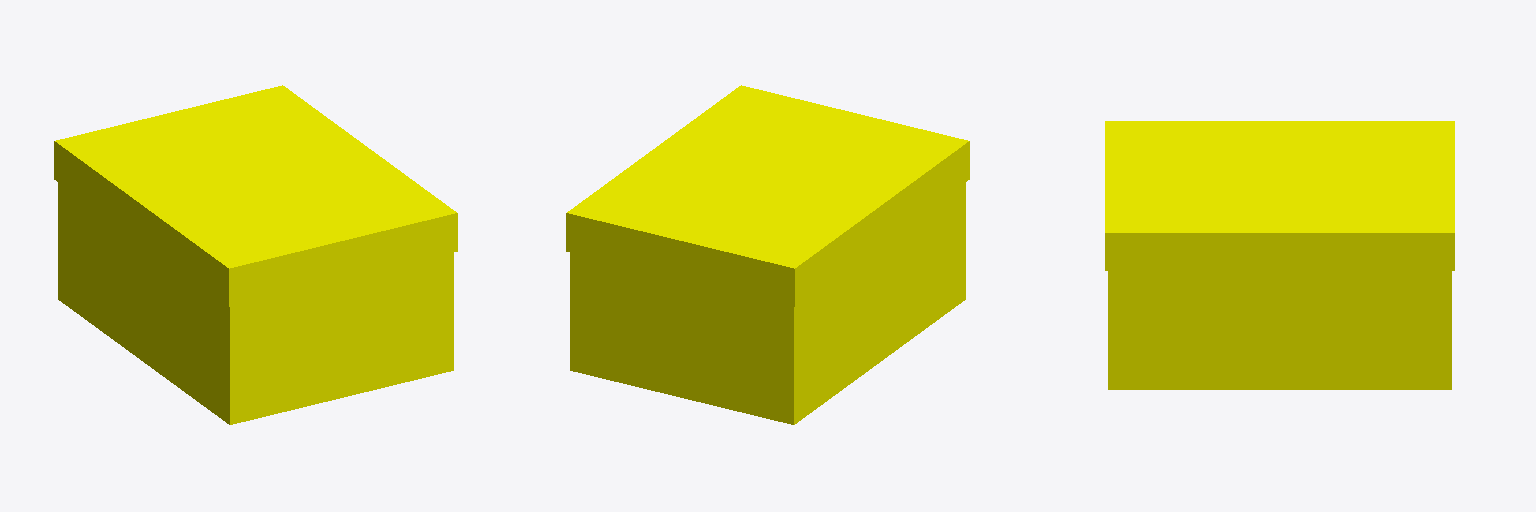
File: shoebox.obj
The picture shows the model from 3 angles: view 1: azimuth 30°, elevation 25°; view 2: azimuth 150°, elevation 25°; view 3: azimuth 270°, elevation 25°; orthographic projection.
Parts seen in each view (by area): view 1: Cubo_1, Cubo_3; view 2: Cubo_1, Cubo_3; view 3: Cubo_1, Cubo_3.
Boxes of the visible parts, <box> form: Cubo_1: <box>54,85,457,306</box>; Cubo_3: <box>58,182,453,424</box>; Cubo_1: <box>566,85,969,306</box>; Cubo_3: <box>570,182,965,424</box>; Cubo_1: <box>1105,121,1454,270</box>; Cubo_3: <box>1108,271,1451,389</box>.
Bounding box in the file's own units: 155 × 102 × 205.